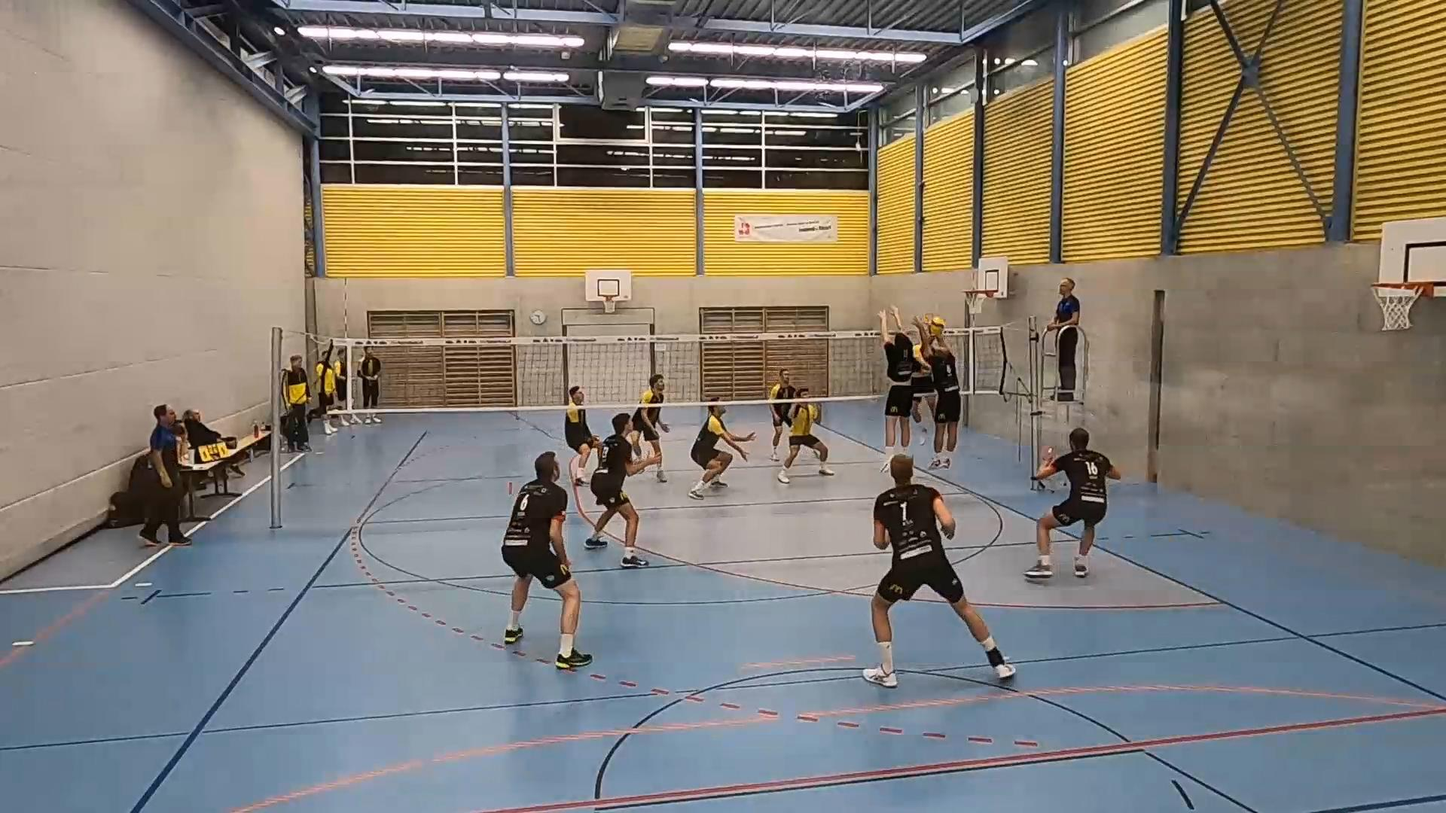attacco: (908, 329, 942, 443)
muro: (915, 325, 967, 486), (872, 304, 917, 478)
